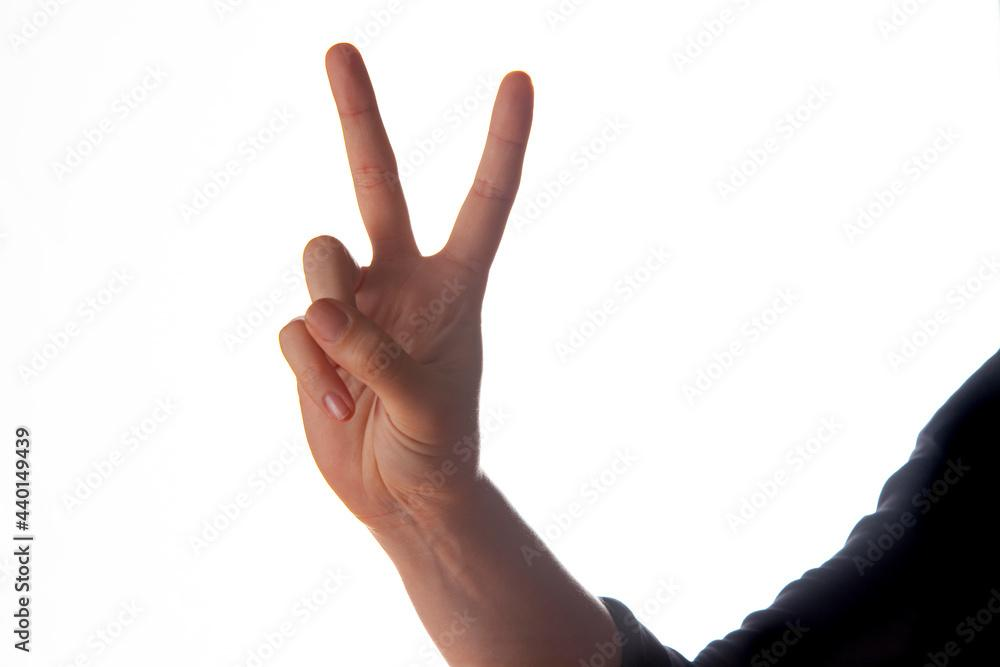peace_sign: (269, 38, 568, 522)
